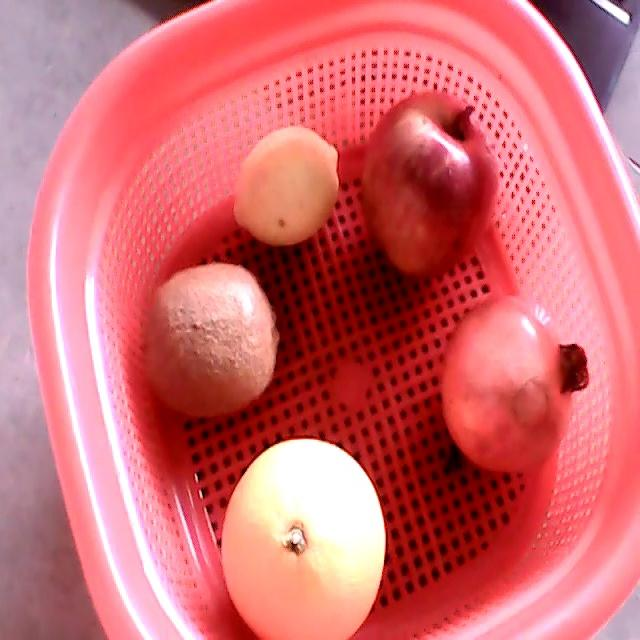apple: (361, 90, 503, 276)
kiwi: (139, 263, 279, 418)
lemon: (232, 125, 339, 245)
orange: (221, 437, 387, 639)
pomegranate: (441, 291, 588, 474)
